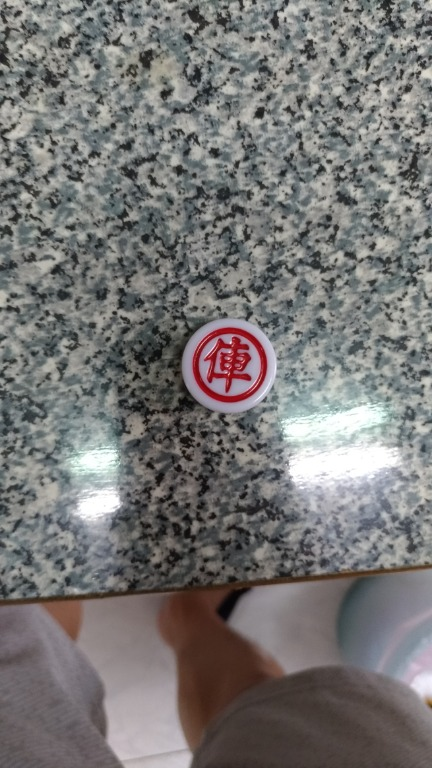r-rook: (166, 310, 296, 429)
